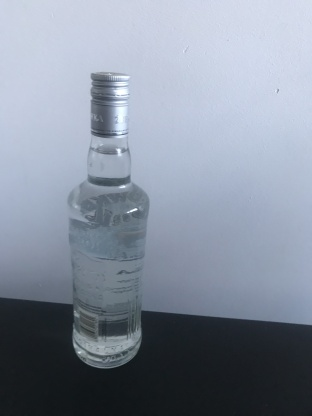nakretka: (88, 69, 131, 140)
